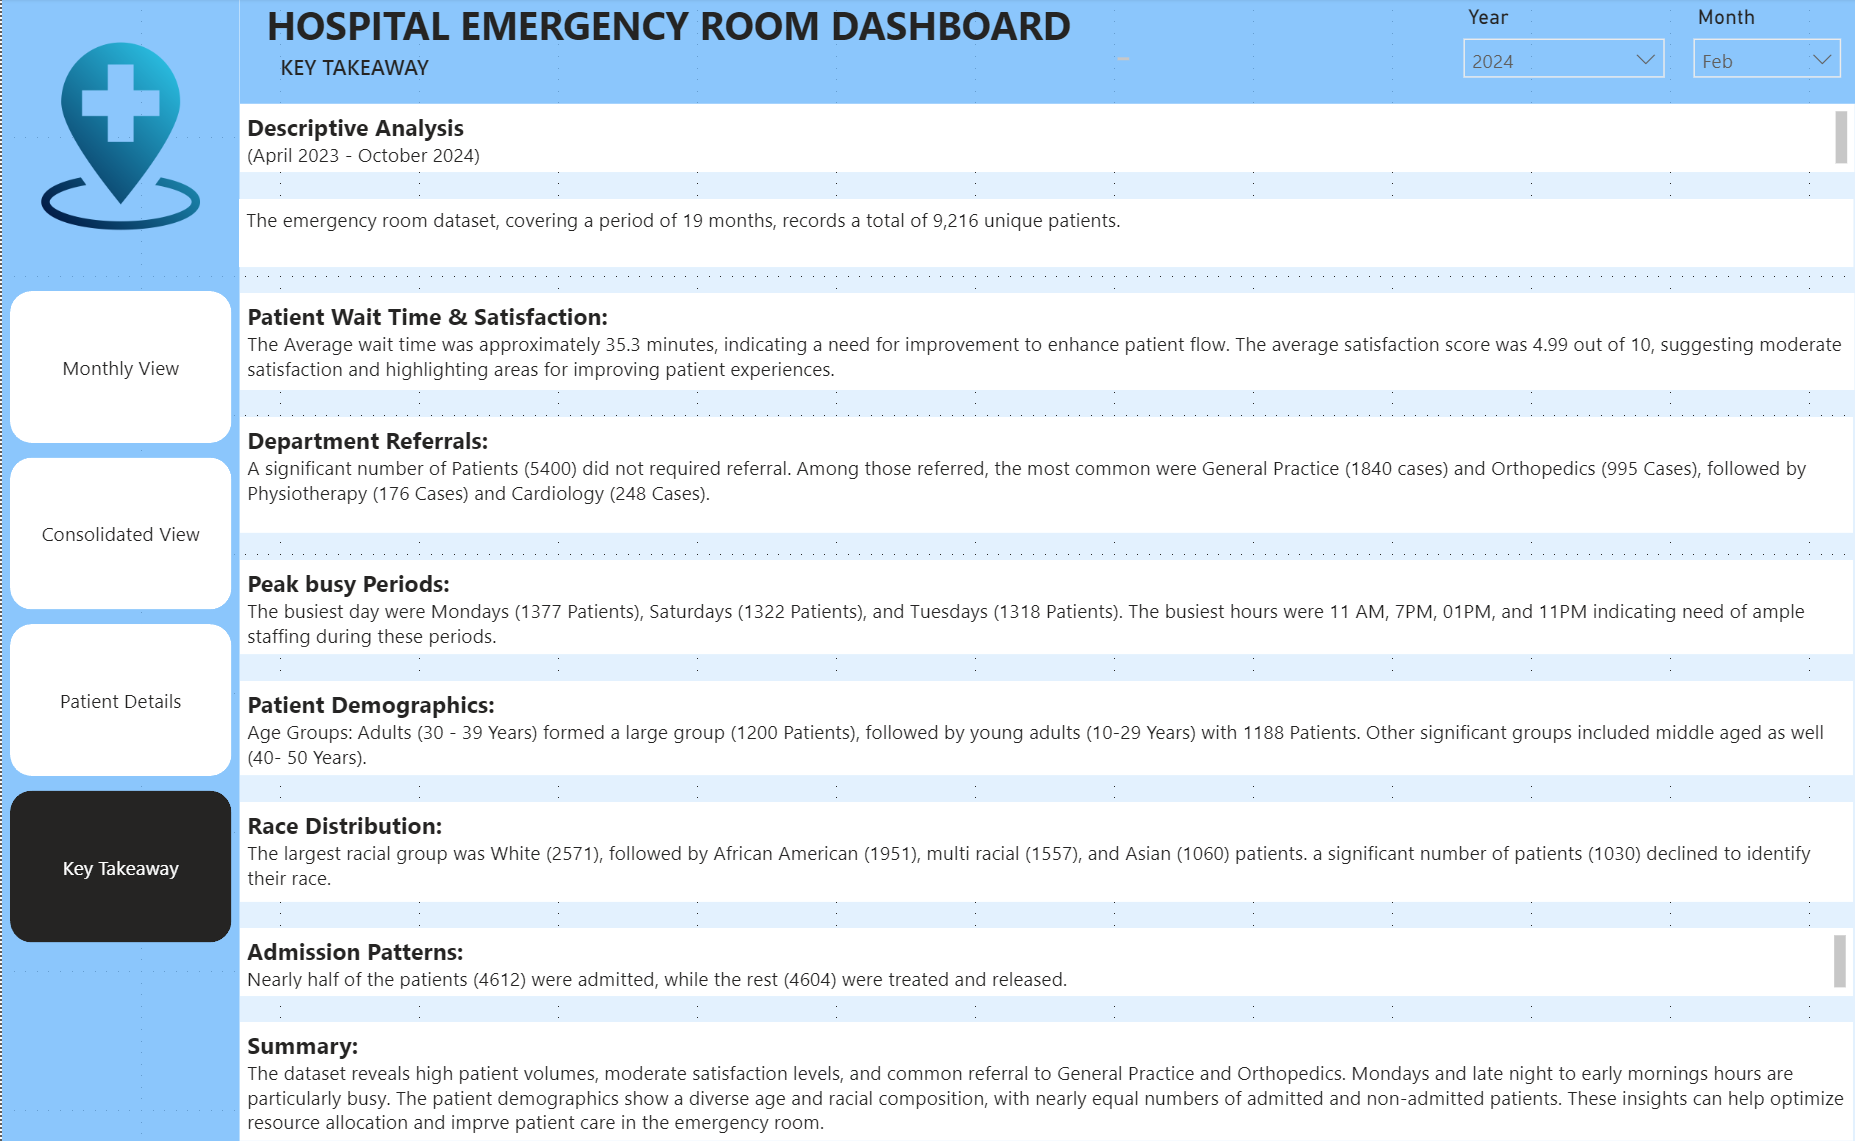

Layout of this report page (visuals, bound fields, positions):
{"tool":"powerbi","page":{"name":"Key Takeaway","canvas":[1280,790],"ordinal":3},"visuals":[{"type":"shape","box":[0,0.6,164.4,789.4],"z":0},{"type":"shape","box":[164.2,0,1115.6,73.5],"z":1000},{"type":"textbox","title":"HOSPITAL EMERGENCY ROOM DASHBOARD","box":[177.4,0,605.8,48.3],"z":2000},{"type":"textbox","title":"KEY TAKEAWAY","box":[187.4,37.1,129.1,26.5],"z":3000},{"type":"slicer","fields":{"Values":["Date Table.Year"]},"box":[999.2,0,158.6,73.5],"z":4000},{"type":"slicer","fields":{"Values":["Date Table.Month"]},"box":[1158,0,121.7,72.6],"z":5000},{"type":"pageNavigator","box":[5.8,202,153.6,450.8],"z":6000},{"type":"textbox","box":[164.4,73.2,1114.7,47],"z":7000},{"type":"textbox","box":[163.7,138.6,1114.7,47],"z":8000},{"type":"textbox","box":[164.4,204,1115.4,67],"z":9000},{"type":"textbox","box":[164.6,289.5,1114.3,80],"z":10000},{"type":"textbox","box":[164.6,387.9,1114.3,65.1],"z":11000},{"type":"textbox","box":[164.6,471.5,1114.3,65.1],"z":12000},{"type":"textbox","box":[164.6,555.1,1114.3,68.6],"z":13000},{"type":"textbox","box":[164.6,642.1,1114.3,46.9],"z":14000},{"type":"textbox","box":[164.6,707.4,1114.3,82.3],"z":15000},{"type":"image","box":[0,30.4,164.4,129.8],"z":16000}]}

Visuals, with their boxes in screenshot pixels (x1, y1, x2, y2), scaled from the page's 1280x790 canvas onto the 1855x1141 screenshot:
shape: l=0, t=1, r=238, b=1140
shape: l=238, t=0, r=1854, b=106
"HOSPITAL EMERGENCY ROOM DASHBOARD" textbox: l=257, t=0, r=1135, b=70
"KEY TAKEAWAY" textbox: l=272, t=54, r=459, b=92
slicer - Date Table.Year: l=1448, t=0, r=1678, b=106
slicer - Date Table.Month: l=1678, t=0, r=1854, b=105
pageNavigator: l=8, t=292, r=231, b=943
textbox: l=238, t=106, r=1854, b=174
textbox: l=237, t=200, r=1853, b=268
textbox: l=238, t=295, r=1854, b=391
textbox: l=239, t=418, r=1853, b=534
textbox: l=239, t=560, r=1853, b=654
textbox: l=239, t=681, r=1853, b=775
textbox: l=239, t=802, r=1853, b=901
textbox: l=239, t=927, r=1853, b=995
textbox: l=239, t=1022, r=1853, b=1140
image: l=0, t=44, r=238, b=231
